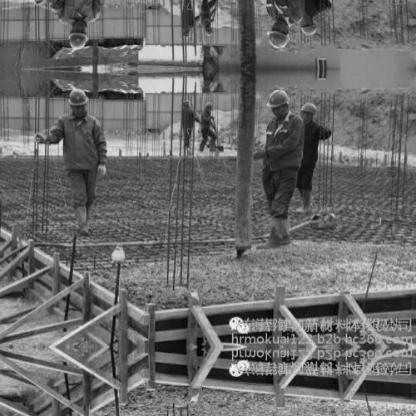helmet: (65, 88, 89, 117), (266, 89, 290, 118), (266, 21, 290, 50), (65, 22, 89, 51), (300, 101, 319, 124), (300, 15, 319, 38), (204, 99, 213, 113), (204, 25, 213, 39)
